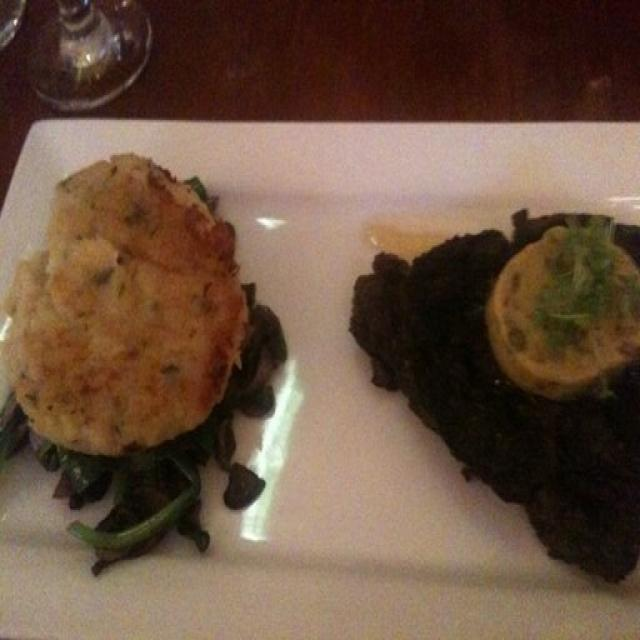Steak: (335, 188, 640, 574)
